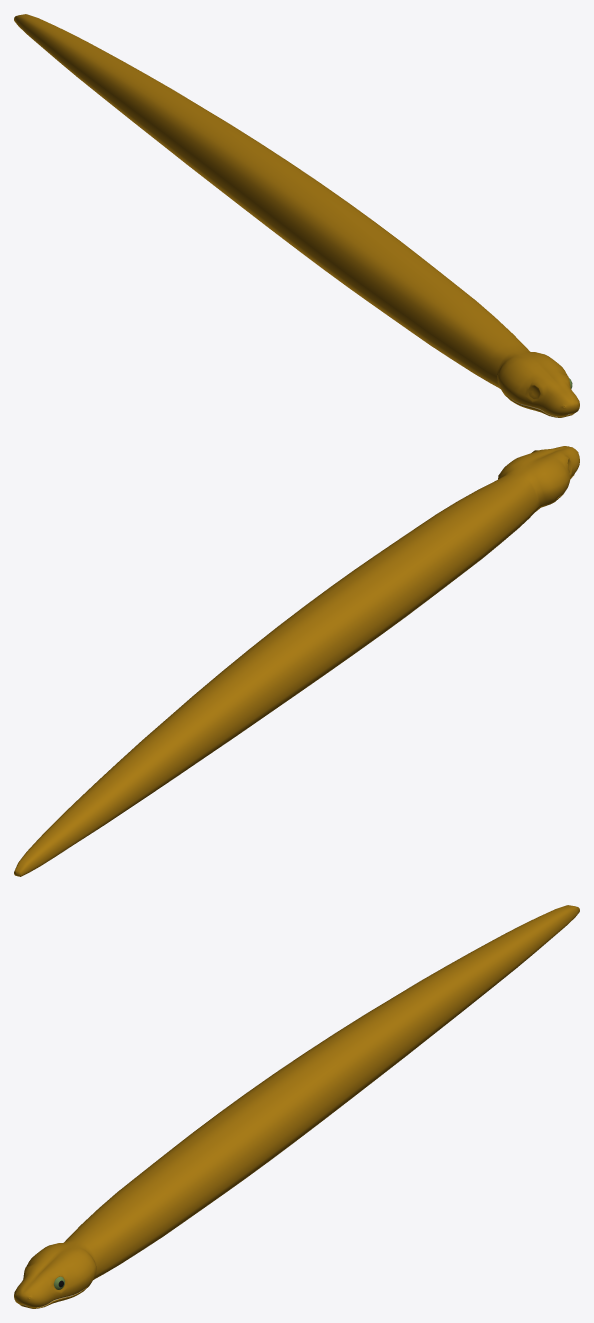
The model's file is python.obj.
The picture shows the model from 3 angles, top to bottom: view 1: azimuth 30°, elevation 25°; view 2: azimuth 150°, elevation 25°; view 3: azimuth 330°, elevation 25°; orthographic projection.
Visible parts, largest first — view 1: python; view 2: python; view 3: python.
Part boxes in pixels (x1,y1,x2,y2): python: [14, 14, 579, 417]; python: [14, 446, 579, 876]; python: [14, 905, 579, 1308].
Bounding box in the file's own units: 0.1907 × 0.1356 × 3.
